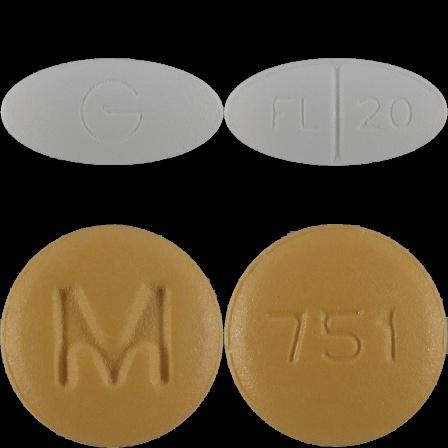0378-0735: (0, 0, 224, 224)
